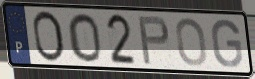2: (104, 12, 138, 67)
G: (210, 18, 245, 70)
O: (31, 9, 67, 64), (66, 12, 104, 64), (174, 16, 209, 68)
P: (136, 14, 172, 66)
